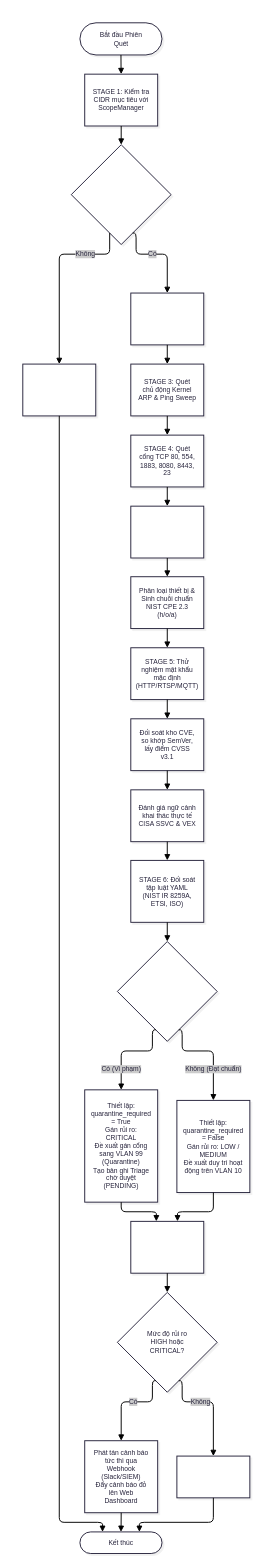
The diagram is 260 pixels wide and 1564 high, and some of its shapes have lost their labels. Here are the shapes that lost their labels. From the top down, the centre of each, then its label:
point (122, 195): Dải mạng In-Scope được phép quét?
point (168, 319): STAGE 2: Lắng nghe mDNS Zeroconf & UPnP SSDP
point (60, 390): Hủy phiên quét: Báo lỗi Out-of-Scope CIDR
point (168, 532): Thu thập Banner HTTP/RTSP/MQTT & Tra cứu OUI MAC
point (168, 992): Thiết bị có Mật khẩu mặc định HOẶC điểm CVSS >= 9.0?
point (168, 1248): STAGE 7: Ghi nhận dữ liệu vào 6 bảng SQLite (WAL Mode)
point (214, 1477): Cập nhật trạng thái an toàn lên Web Dashboard
